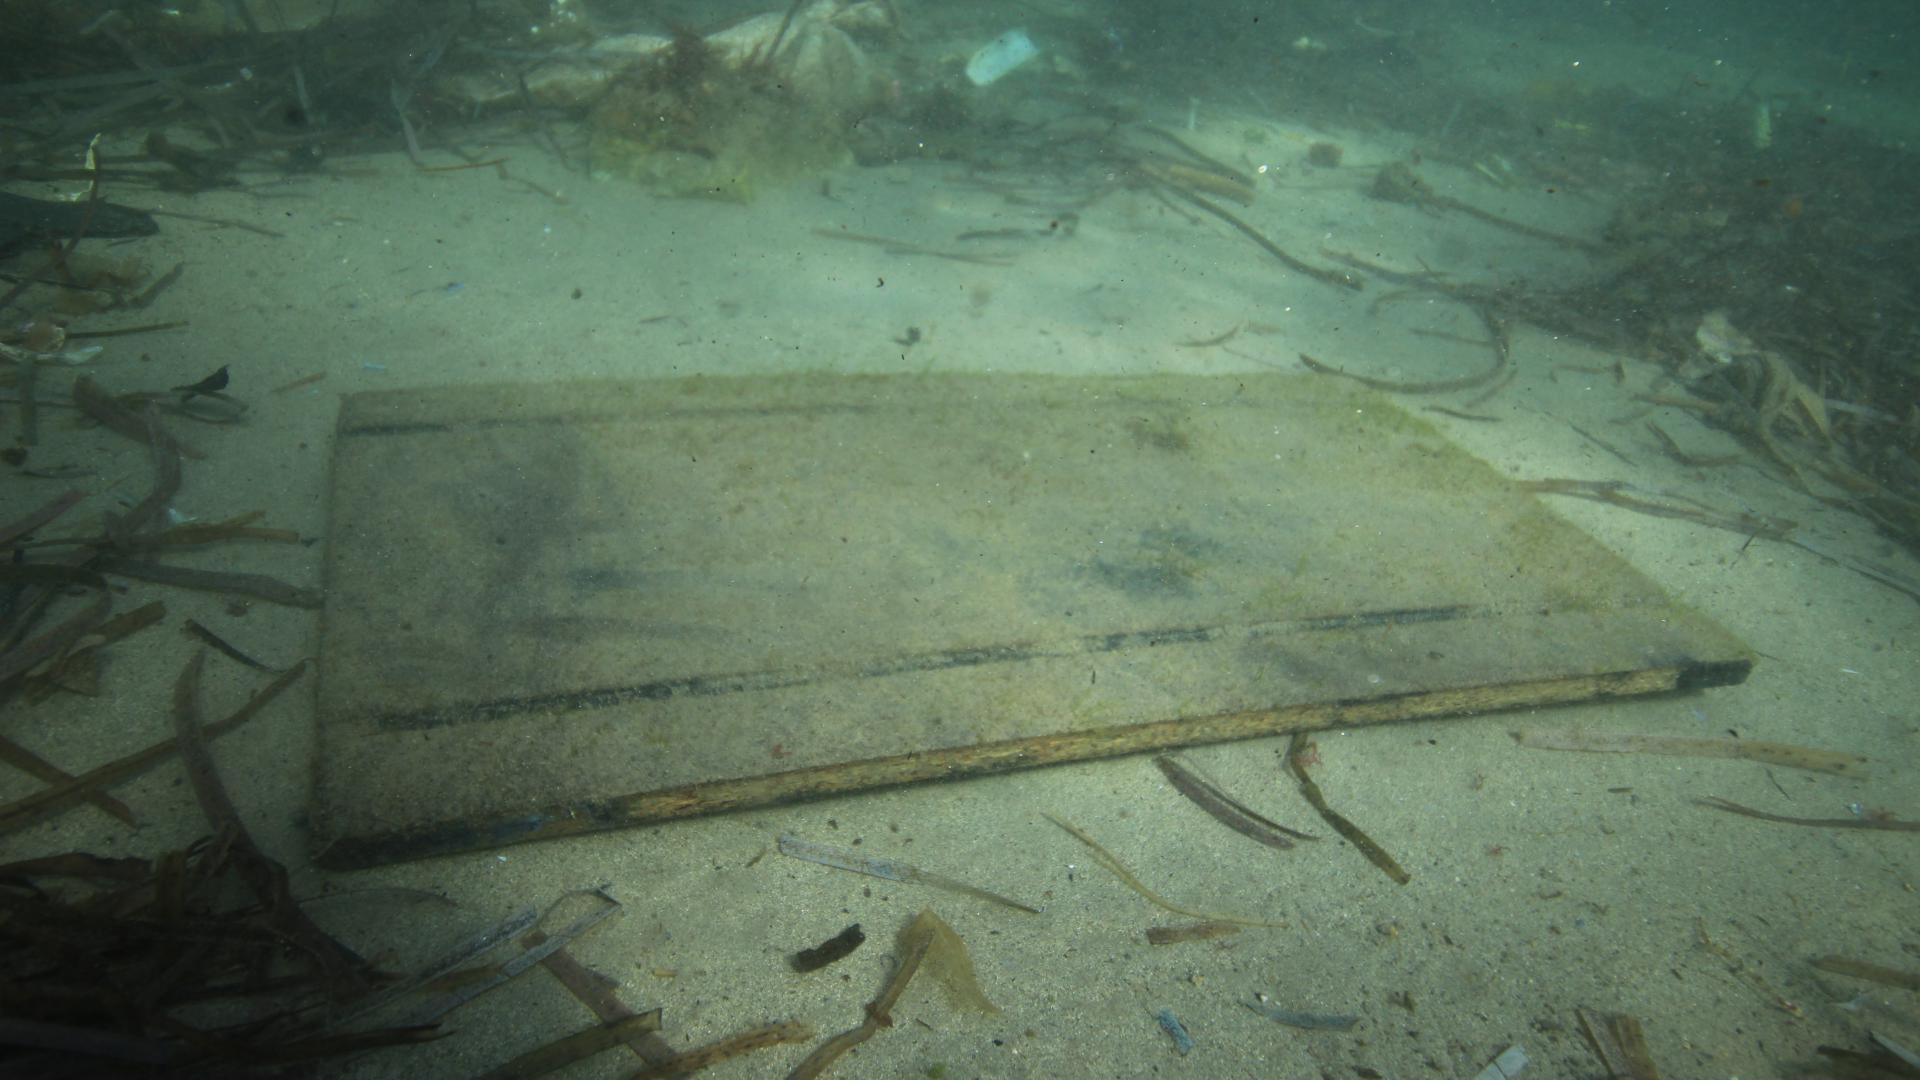wood: (309, 367, 1760, 873)
